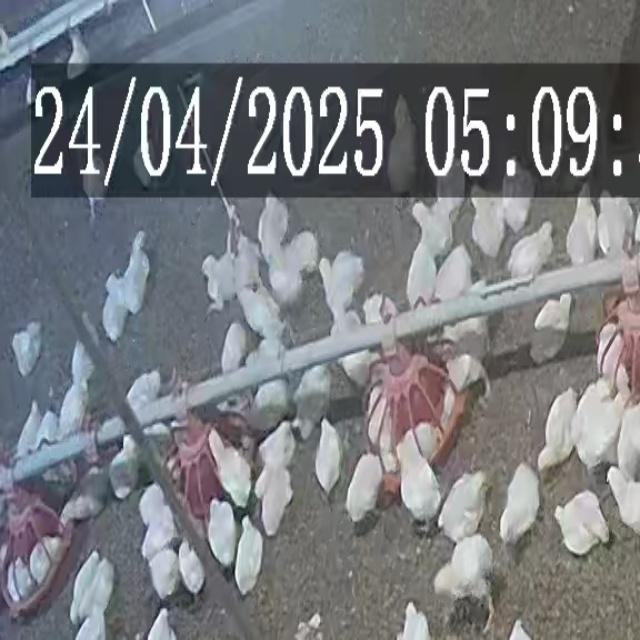chicken: (437, 543, 492, 618), (496, 463, 545, 546), (389, 441, 437, 521), (552, 494, 612, 557), (436, 324, 484, 400), (385, 91, 418, 193), (209, 427, 250, 507), (582, 393, 624, 471), (368, 386, 402, 476), (530, 291, 573, 360), (442, 474, 485, 542), (507, 224, 552, 286), (62, 468, 109, 527), (253, 467, 293, 536), (66, 559, 114, 616), (596, 188, 635, 255), (598, 316, 630, 397), (319, 253, 364, 310), (571, 378, 608, 447), (541, 388, 571, 473), (297, 368, 333, 436), (237, 285, 285, 334), (434, 245, 471, 308), (416, 198, 454, 258), (345, 453, 377, 524), (122, 234, 150, 314), (609, 467, 640, 536), (566, 186, 593, 265), (500, 166, 533, 228), (470, 188, 500, 255), (99, 274, 129, 339), (611, 404, 640, 470), (332, 313, 360, 381), (314, 419, 341, 489), (236, 517, 260, 594), (202, 249, 236, 303), (269, 255, 301, 312), (206, 498, 233, 565), (255, 423, 300, 463), (408, 247, 436, 311), (138, 512, 179, 555), (260, 193, 288, 255), (9, 404, 41, 457), (59, 381, 89, 437), (179, 532, 201, 596), (152, 548, 181, 596), (109, 443, 136, 493), (33, 536, 62, 582), (126, 371, 162, 408), (8, 558, 38, 602), (67, 25, 91, 75), (402, 600, 432, 640), (362, 293, 395, 328), (290, 233, 322, 268), (221, 319, 242, 372), (236, 237, 258, 287), (72, 616, 117, 640), (148, 605, 178, 640), (246, 340, 287, 365), (405, 421, 441, 448), (64, 350, 91, 386), (141, 485, 164, 522)
